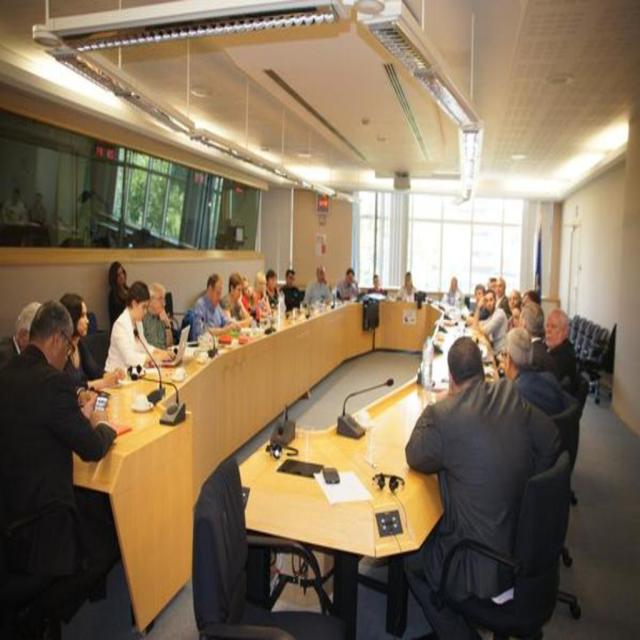chair: (422, 454, 577, 636), (192, 455, 344, 636), (574, 320, 616, 406), (80, 332, 110, 376)
desk: (75, 298, 523, 638)
laptop: (153, 322, 190, 366)
person: (404, 334, 560, 633), (0, 298, 120, 622), (104, 280, 170, 376), (503, 326, 571, 418), (0, 299, 42, 370), (190, 272, 234, 337), (542, 307, 577, 388), (106, 260, 130, 328)
